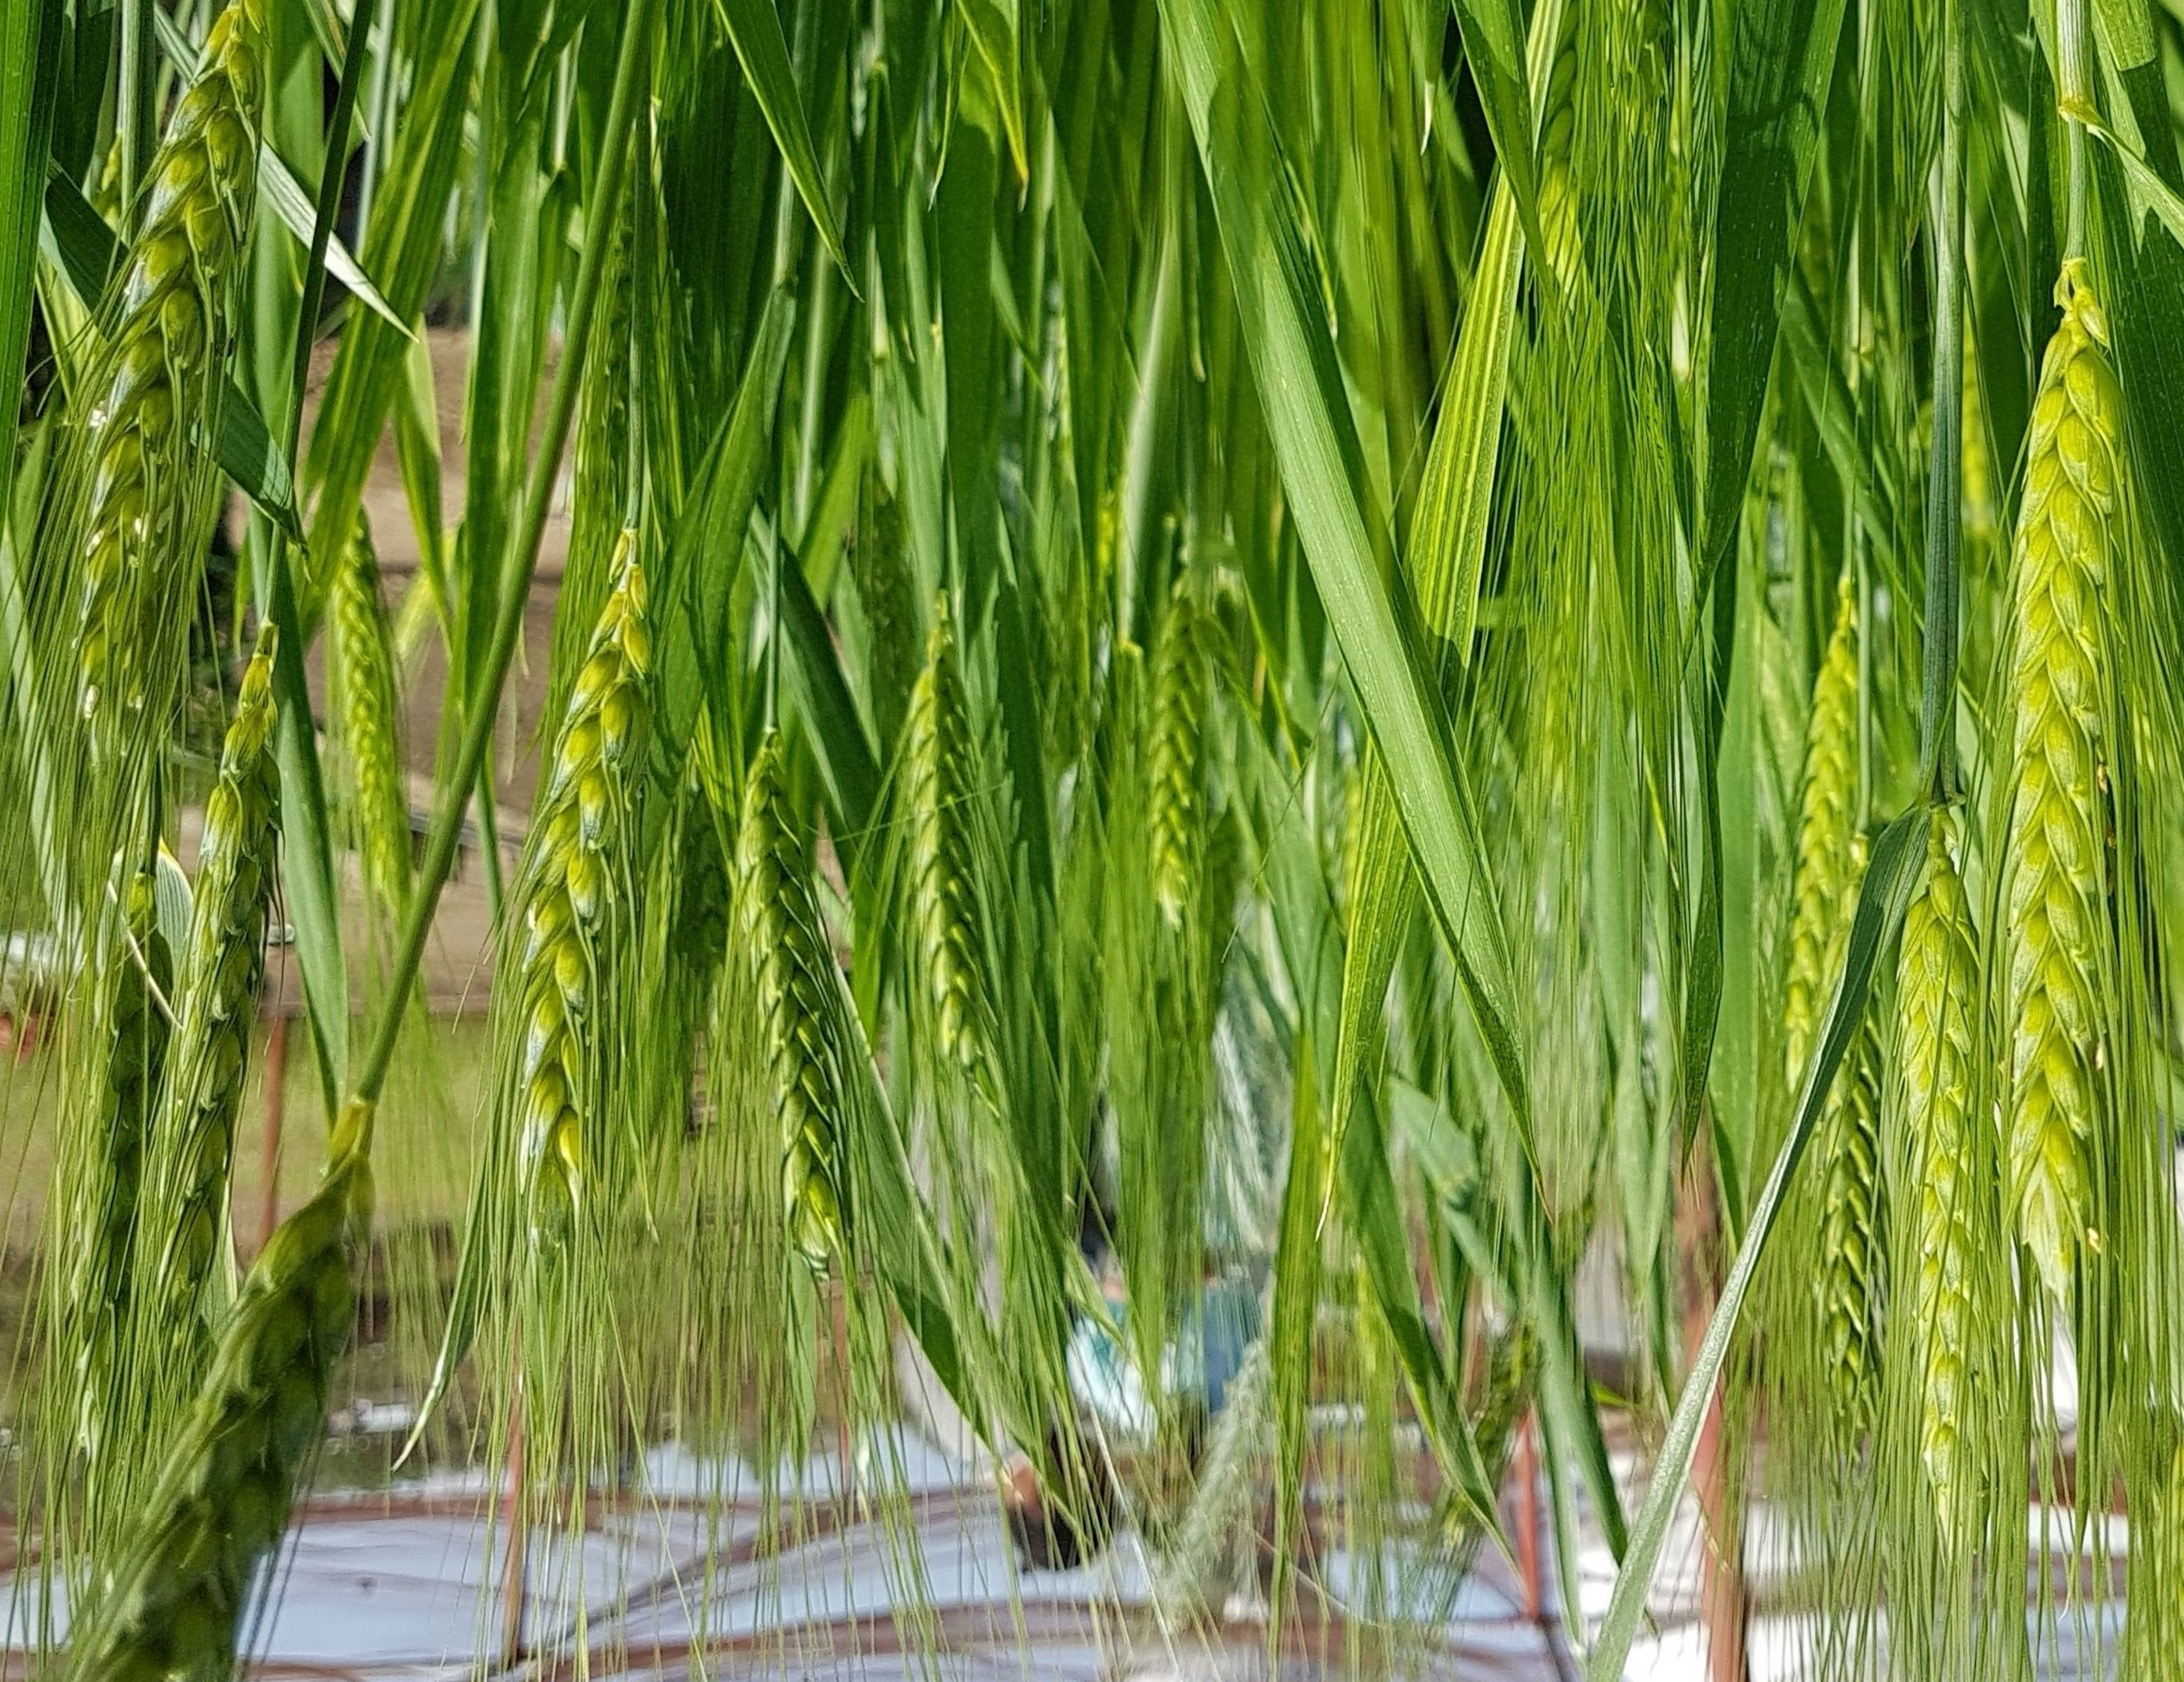Healthy Wheat: (459, 544, 1071, 1269), (1808, 304, 2184, 1431)
